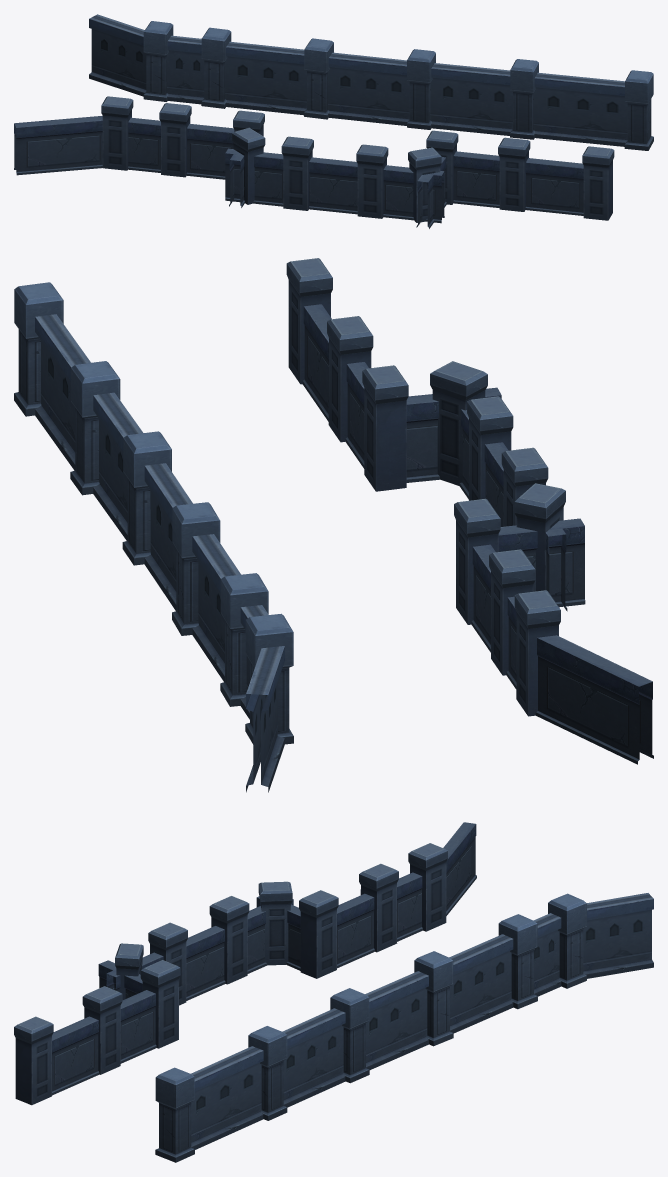
Rendered from Area_08_4.fbx.
3 views of the same model, one above another, from view 1: azimuth 30°, elevation 25°; view 2: azimuth 150°, elevation 25°; view 3: azimuth 270°, elevation 25° (orthographic). The views are drawn at different scales.
Parts seen in each view (by area): view 1: Area_08_4; view 2: Area_08_4; view 3: Area_08_4.
Boxes of the visible parts, bbox=[...] form: Area_08_4: bbox=[14, 14, 653, 228]; Area_08_4: bbox=[14, 258, 653, 792]; Area_08_4: bbox=[14, 822, 653, 1162].
Bounding box in the file's own units: 5343 × 701 × 5028.
